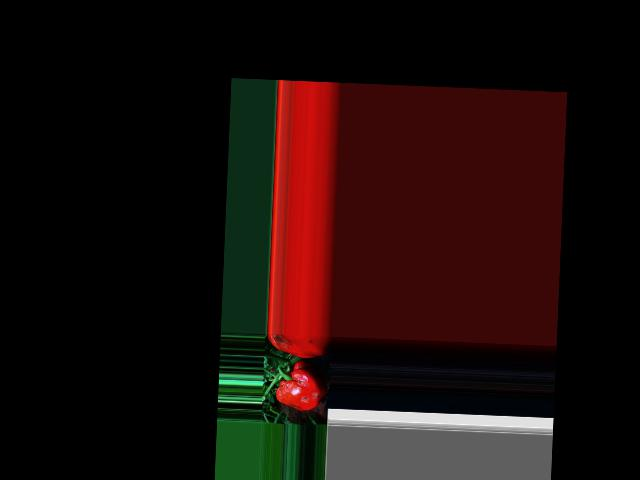bell_pepper: (271, 358, 331, 409)
